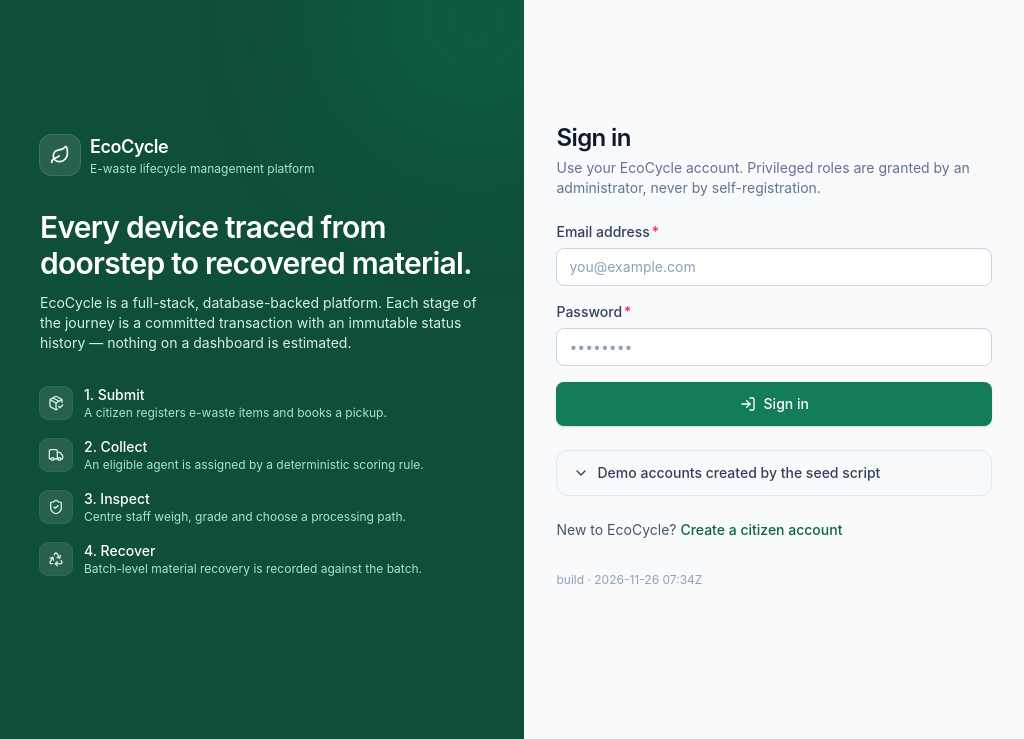
it: post-login destination › sends an administrator to the admin dashboard, not to the staff route they never had access to
Expected: the button "Sign in" is shown, [556,382,992,426]
Type "admin@ecocycle.test" into the field labelled "Email address*" at {"x": 774, "y": 267}, box [556,248,992,286]
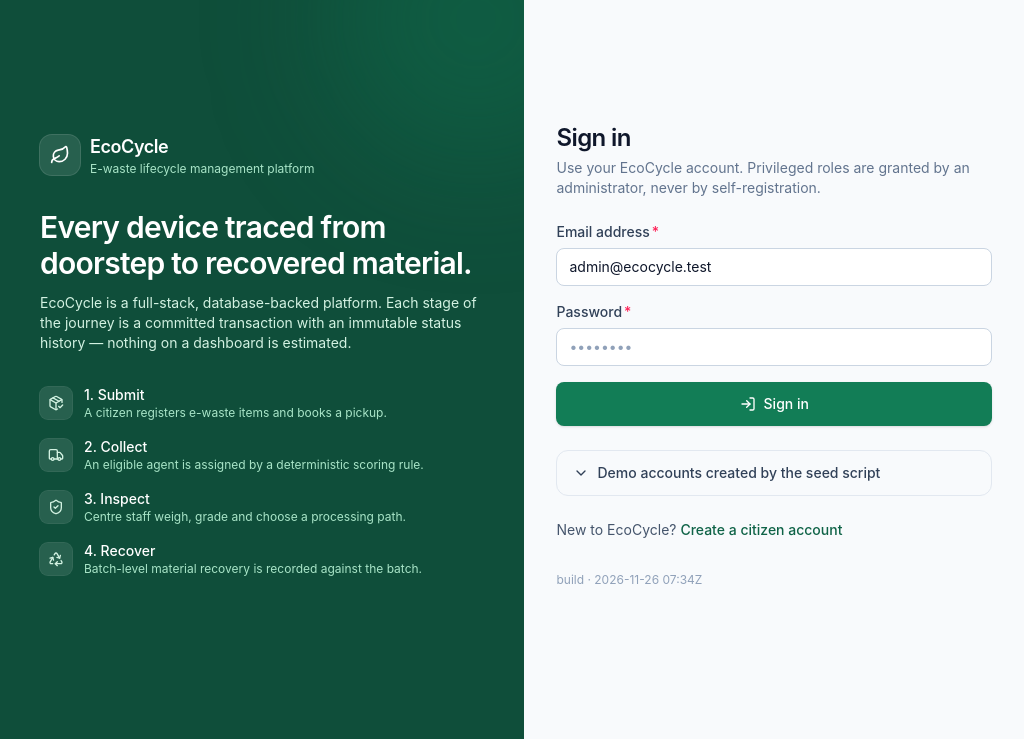
Type "Passw0rd123" into the password field labelled "Password*" at {"x": 774, "y": 347}, box [556,328,992,366]
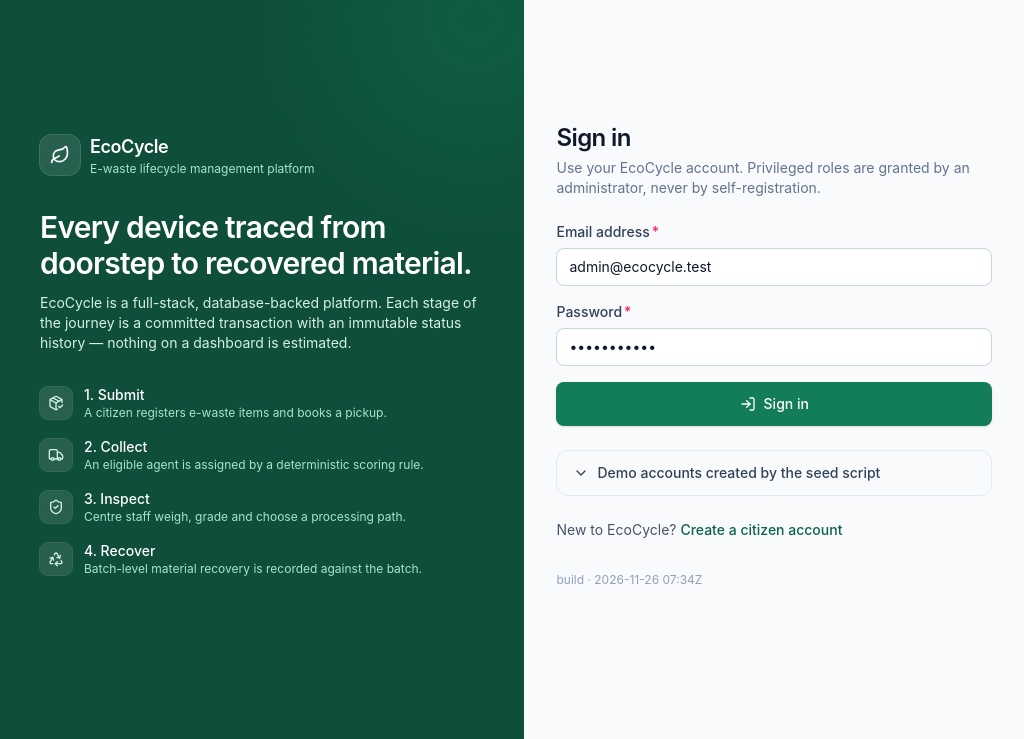
Click the button "Sign in" at {"x": 774, "y": 404}, box [556,382,992,426]
(page scrolled)
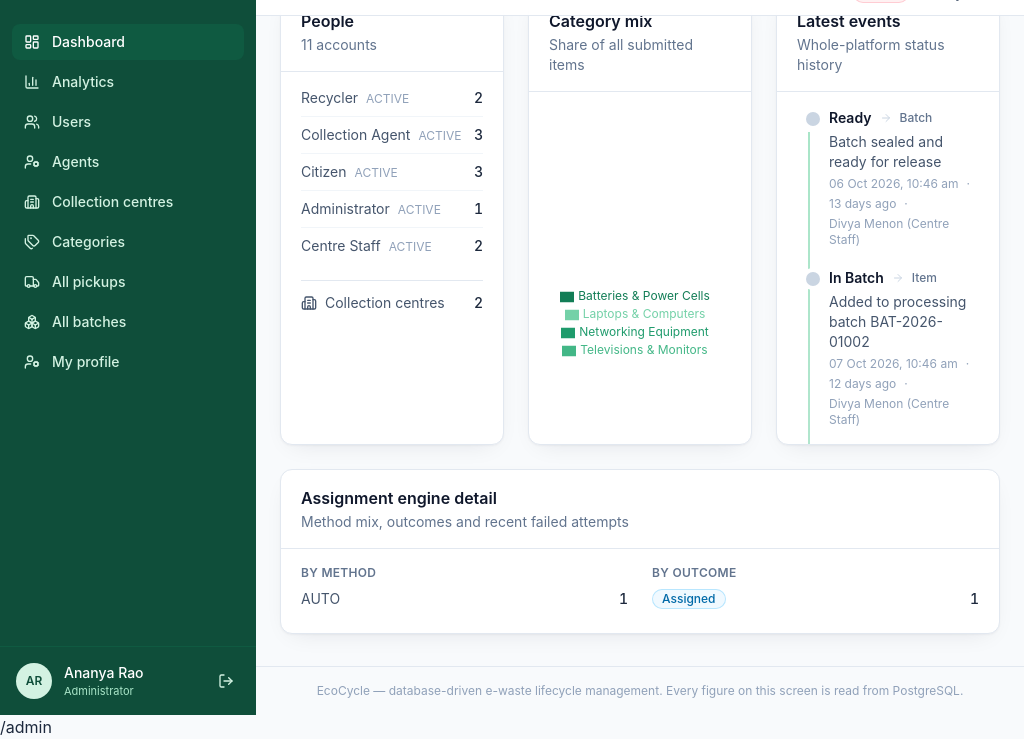
Now the text with test id "location" reads "/admin", box [0,717,52,737]
